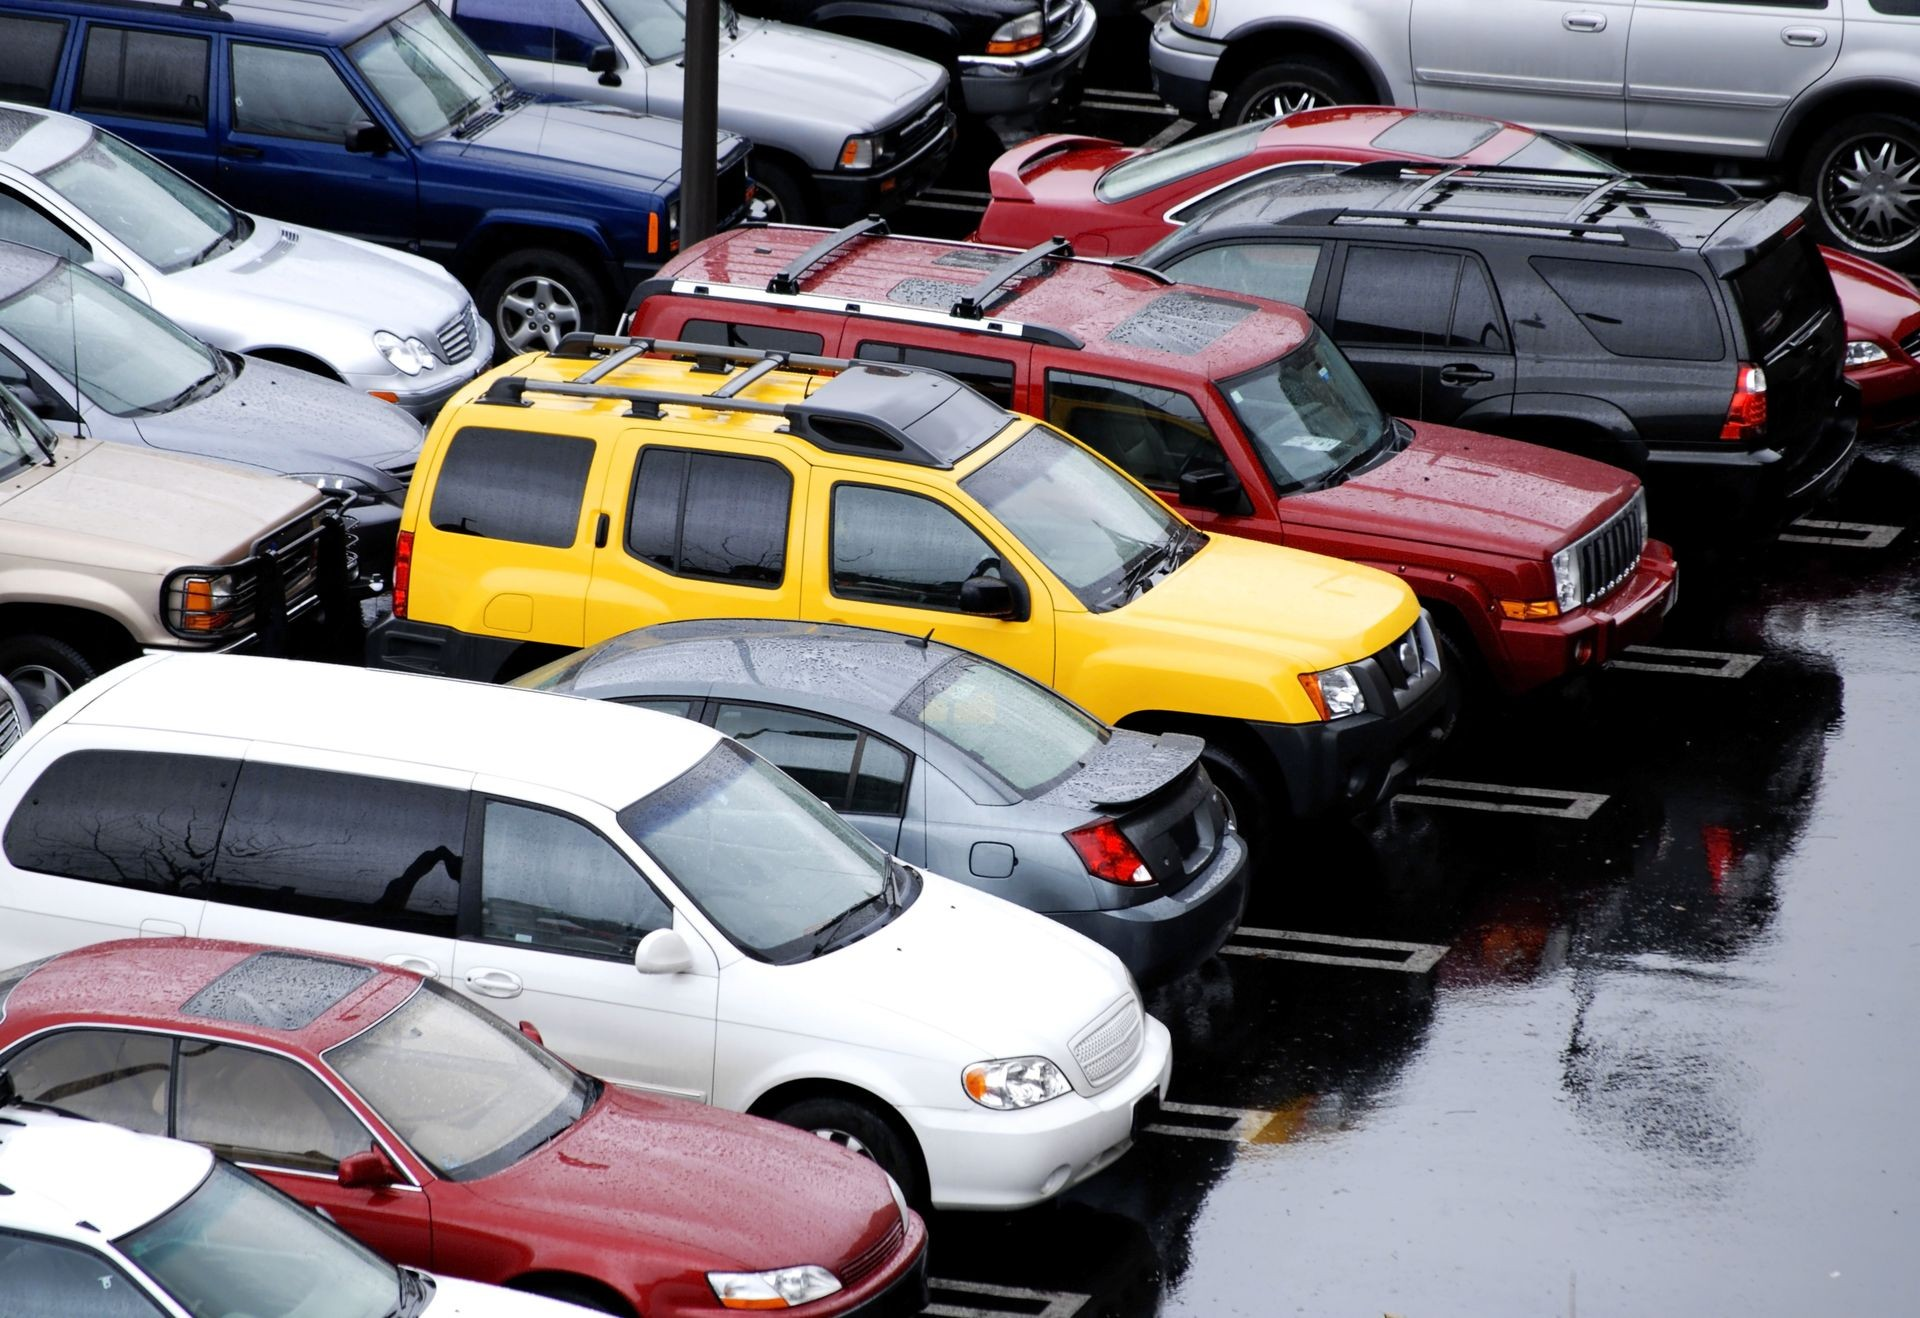Car: (0, 654, 1172, 1211), (371, 336, 1441, 839), (622, 220, 1679, 693), (0, 939, 928, 1318), (972, 108, 1920, 403), (509, 620, 1247, 985), (0, 0, 753, 358), (1141, 166, 1860, 539), (1150, 0, 1920, 269), (0, 104, 495, 419), (0, 239, 423, 585), (0, 1105, 624, 1318), (430, 0, 957, 228), (0, 385, 347, 712), (728, 0, 1099, 114), (0, 676, 34, 760)
